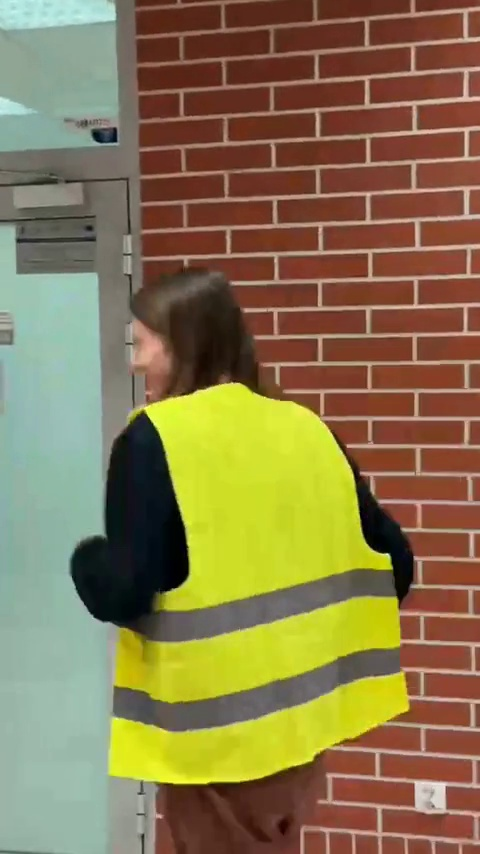vest: (83, 259, 415, 854)
